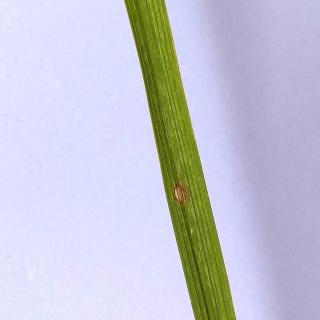Blast: (161, 167, 203, 222)
